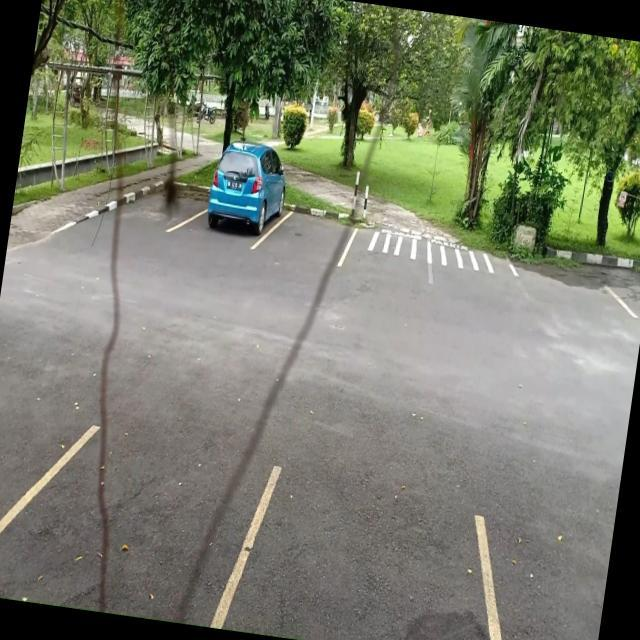empty: (0, 418, 258, 628), (230, 462, 498, 640), (271, 189, 356, 268)
occupied: (198, 178, 288, 249)
